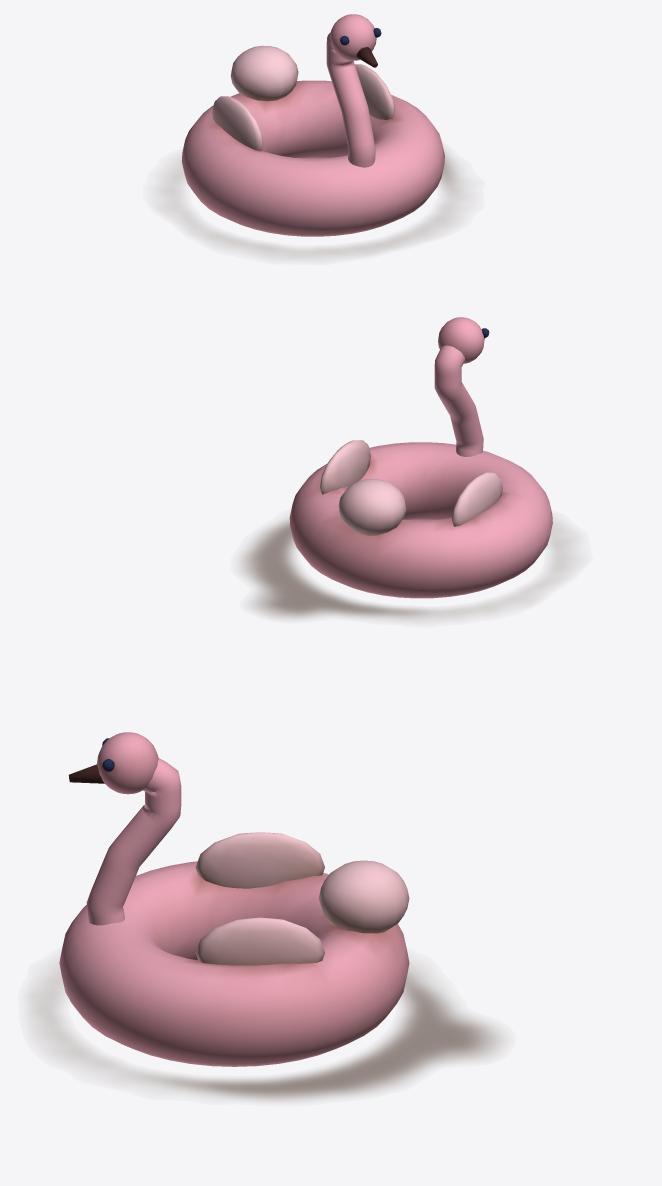
File: float_flamingo.glb
The picture shows the model from 3 angles, top to bottom: view 1: azimuth 30°, elevation 25°; view 2: azimuth 150°, elevation 25°; view 3: azimuth 270°, elevation 25°; orthographic projection. The views are drawn at different scales.
Parts seen in each view (by area): view 1: ring, baked_shadow, neck, tail, wing-1, head, wing1; view 2: ring, baked_shadow, neck, tail, wing1, wing-1, head; view 3: ring, baked_shadow, neck, wing-1, tail, wing1, head.
Boxes of the visible parts, bbox=[...] form: ring: bbox=[181, 80, 444, 236]; baked_shadow: bbox=[163, 151, 461, 256]; neck: bbox=[326, 32, 375, 167]; tail: bbox=[230, 45, 298, 101]; wing-1: bbox=[212, 96, 263, 151]; head: bbox=[330, 14, 376, 60]; wing1: bbox=[355, 64, 395, 119]; ring: bbox=[289, 442, 552, 598]; baked_shadow: bbox=[241, 519, 569, 618]; neck: bbox=[434, 345, 483, 456]; tail: bbox=[338, 479, 406, 535]; wing1: bbox=[320, 440, 371, 494]; wing-1: bbox=[452, 472, 502, 526]; head: bbox=[438, 317, 484, 363]; ring: bbox=[59, 861, 409, 1066]; baked_shadow: bbox=[33, 967, 500, 1099]; neck: bbox=[86, 758, 181, 925]; wing-1: bbox=[195, 832, 324, 888]; tail: bbox=[318, 860, 409, 933]; wing1: bbox=[195, 917, 324, 965]; head: bbox=[97, 732, 158, 794].
Size of the model in its own units: 4.68 by 2.34 by 4.89.
Materials: 5 (1 with a texture image).
